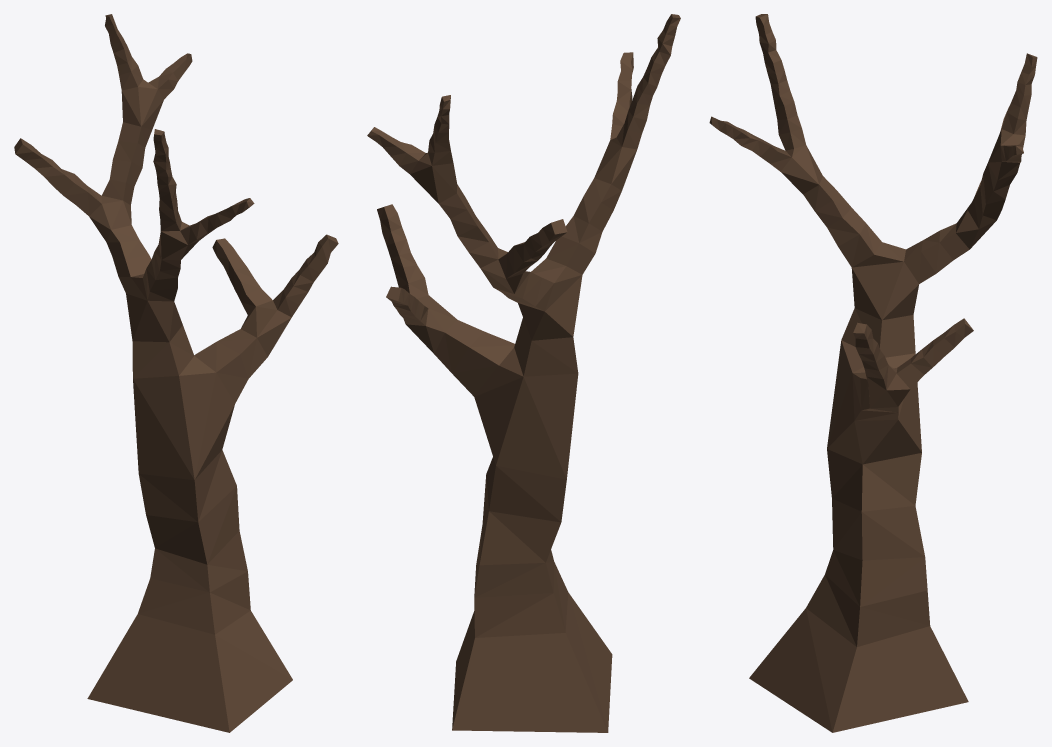
Rendered from tree3-dead.glb.
3 renders of one model, left to right at view 1: azimuth 30°, elevation 25°; view 2: azimuth 150°, elevation 25°; view 3: azimuth 270°, elevation 25°, orthographic. The views are drawn at different scales.
Visible parts, largest first — view 1: Trunk.008; view 2: Trunk.008; view 3: Trunk.008.
Boxes of the visible parts, box(x1,y1,x2,y2) form: Trunk.008: box(14, 14, 338, 732); Trunk.008: box(367, 14, 680, 732); Trunk.008: box(709, 14, 1037, 732).
Size of the model in its own units: 2.16 by 5.11 by 2.39.
